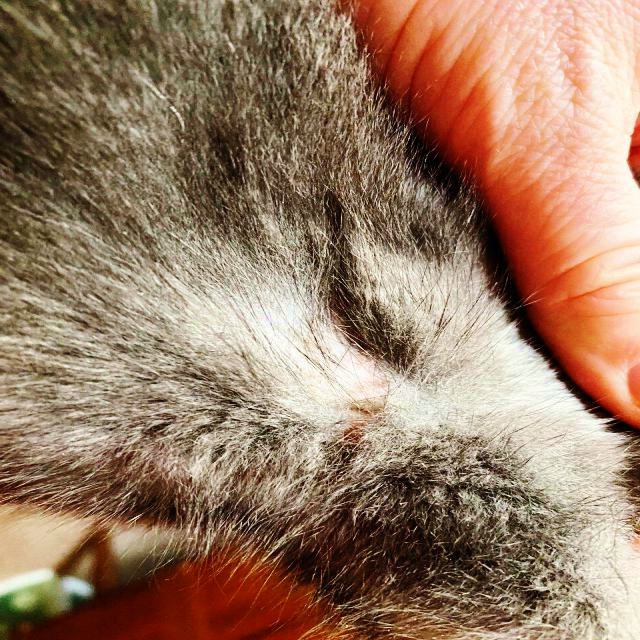hairloss: (307, 323, 401, 445)
